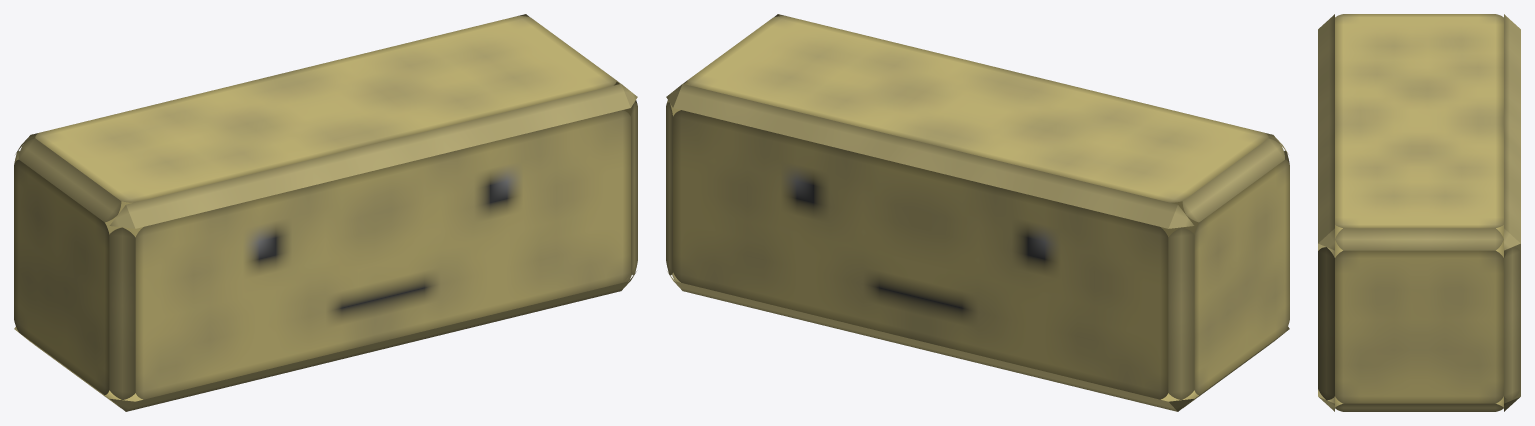
The model's file is BUDDAH.fbx.
The picture shows the model from 3 angles, left to right: view 1: azimuth 30°, elevation 25°; view 2: azimuth 150°, elevation 25°; view 3: azimuth 270°, elevation 25°; orthographic projection. The views are drawn at different scales.
Visible parts, largest first — view 1: Box007; view 2: Box007; view 3: Box007.
Part boxes in pixels (bbox=[...]): Box007: bbox=[14, 14, 637, 411]; Box007: bbox=[666, 14, 1289, 411]; Box007: bbox=[1318, 14, 1520, 411].
Bounding box in the file's own units: 203 × 76.2 × 76.2.
1 material, 1 textured.
